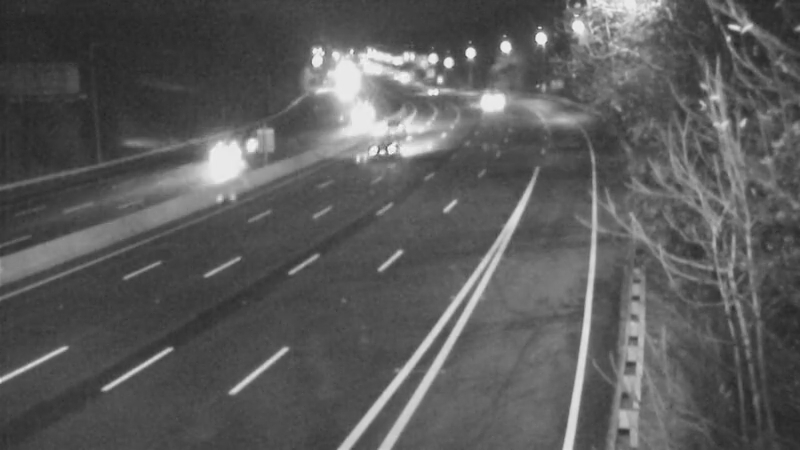vehicle: (345, 111, 425, 191), (181, 118, 261, 198), (465, 76, 515, 126), (412, 67, 462, 117), (367, 104, 417, 154), (225, 123, 275, 173), (328, 95, 378, 145)
